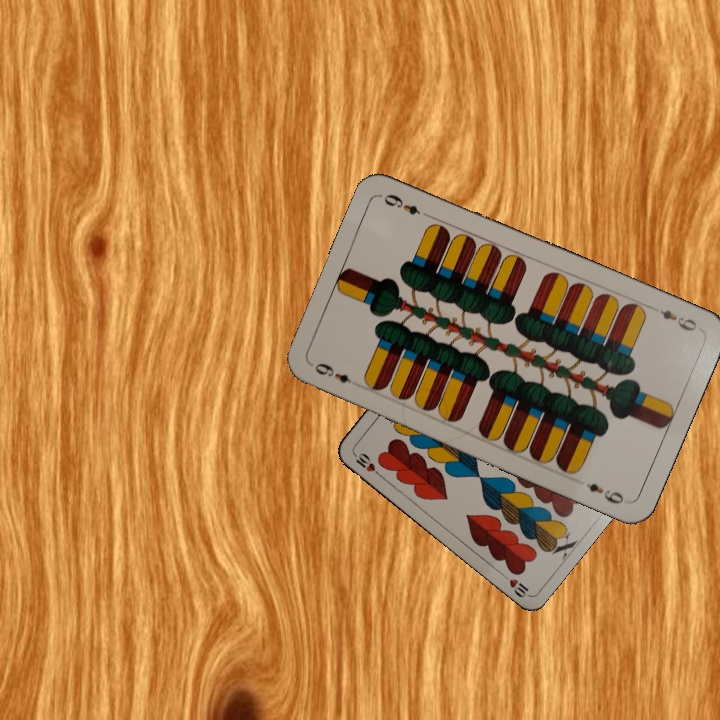E9: (656, 305, 700, 334), (310, 358, 354, 386)
H10: (350, 449, 384, 480)
